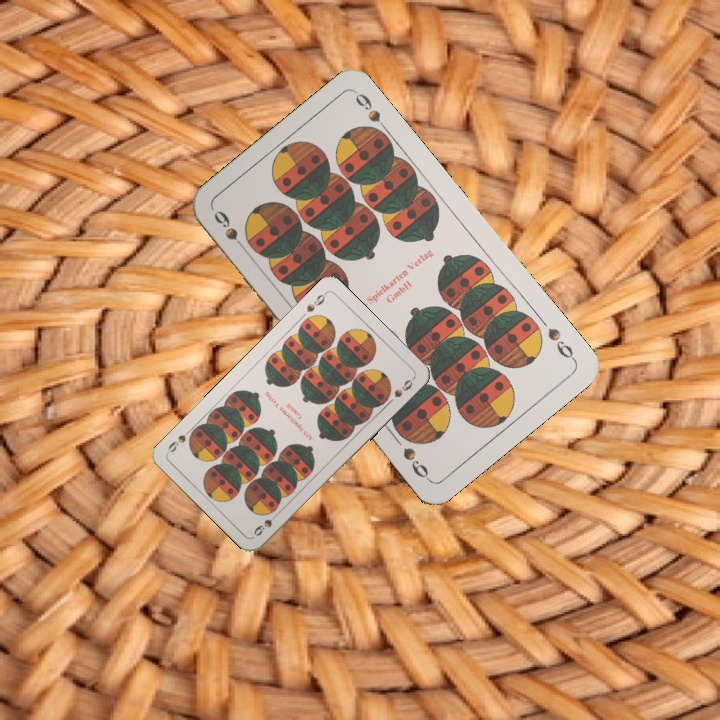S9: (209, 206, 252, 256), (543, 323, 578, 364), (249, 507, 282, 539), (302, 288, 329, 315)
